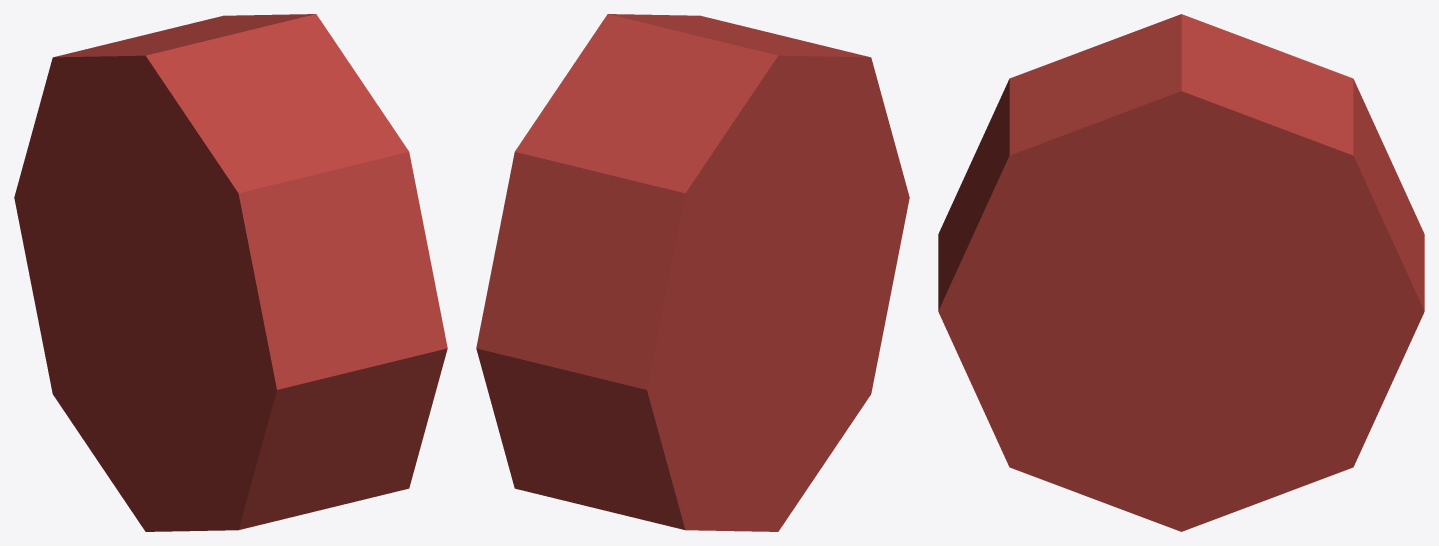
The model's file is disc_lod2.glb.
The picture shows the model from 3 angles, left to right: view 1: azimuth 30°, elevation 25°; view 2: azimuth 150°, elevation 25°; view 3: azimuth 270°, elevation 25°; orthographic projection. The views are drawn at different scales.
Visible parts, largest first — view 1: disc_lod2; view 2: disc_lod2; view 3: disc_lod2.
Boxes of the visible parts, left/top/right/bottom form: disc_lod2: left=14, top=14, right=447, bottom=531; disc_lod2: left=476, top=14, right=909, bottom=531; disc_lod2: left=938, top=14, right=1424, bottom=531.
Size of the model in its own units: 0.03 by 0.08 by 0.08.
